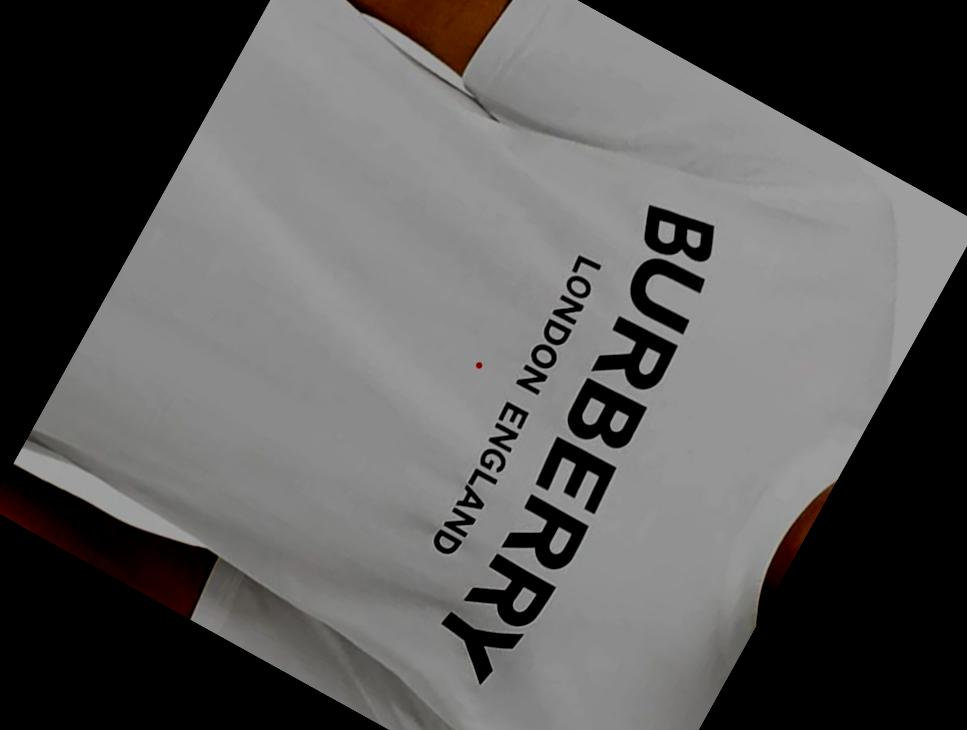BURBERRY: (406, 191, 748, 692)
